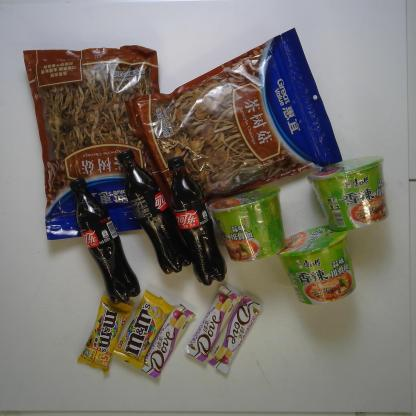Chocolate: (112, 289, 175, 368), (206, 296, 264, 374), (186, 281, 242, 361), (142, 303, 198, 378), (78, 297, 133, 371)
Dried Food: (125, 29, 346, 204), (20, 42, 169, 242)
Drink: (115, 148, 194, 276), (66, 176, 140, 306), (164, 154, 228, 286)
Instant Noodles: (206, 184, 289, 265), (306, 157, 392, 232), (281, 225, 358, 307)
